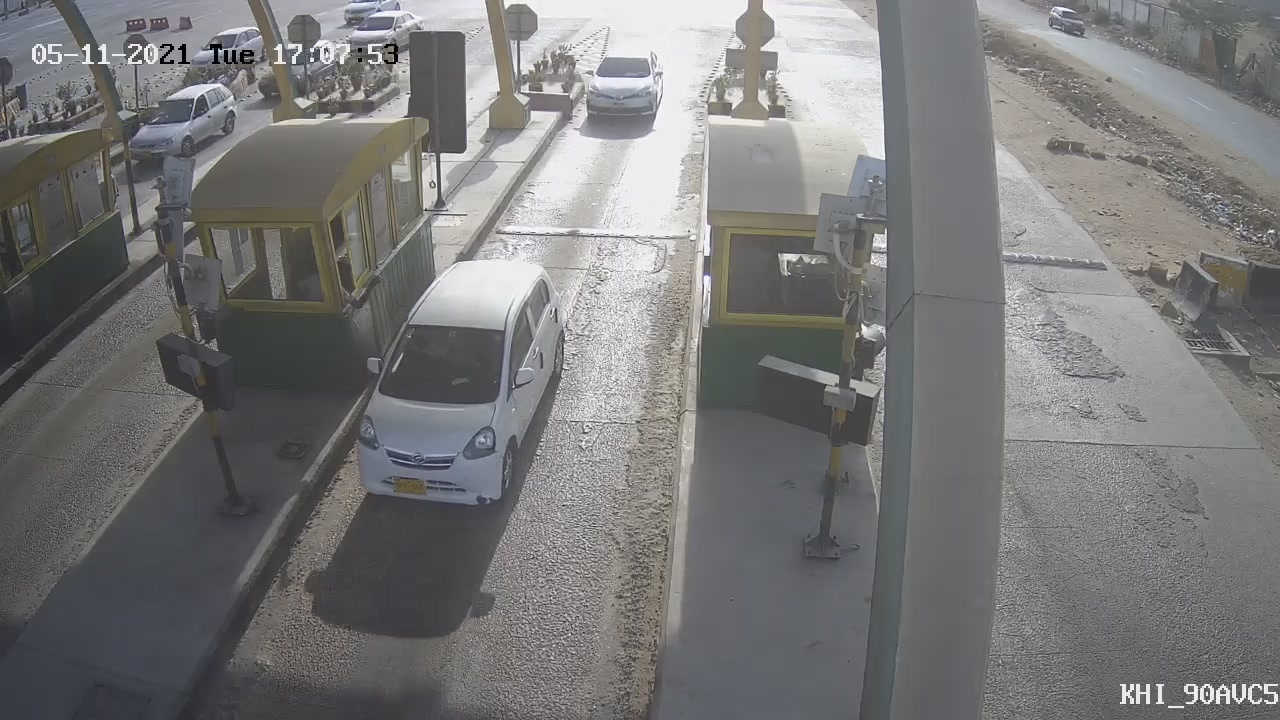F1: (333, 238, 590, 524), (569, 36, 678, 135)
